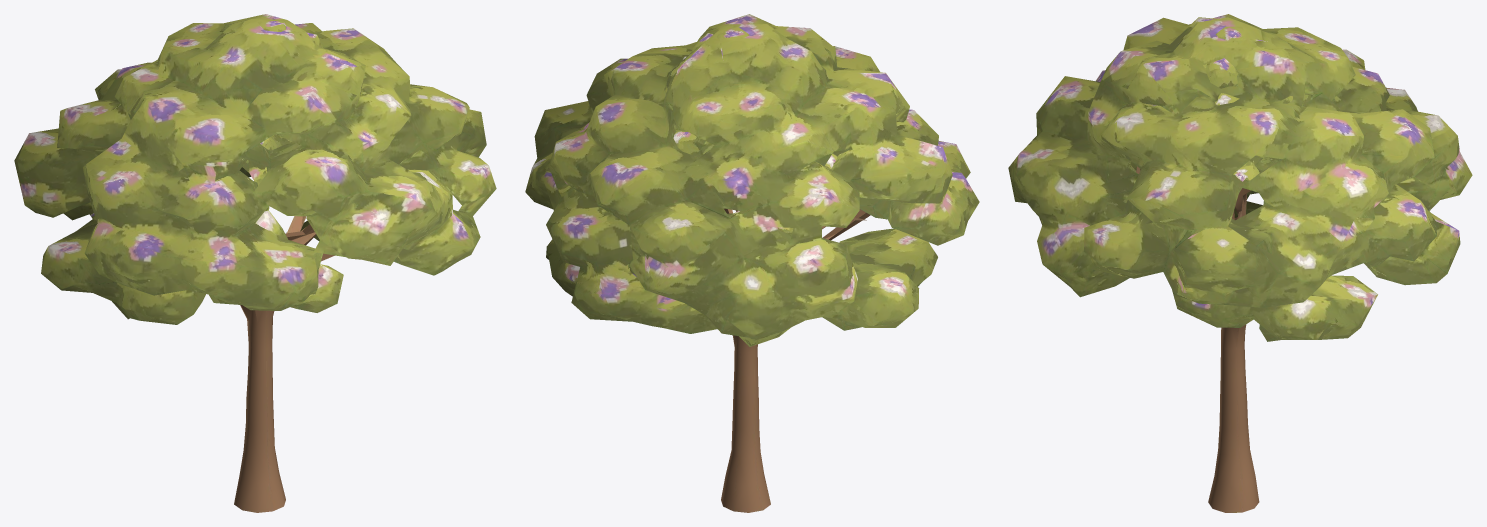
The model's file is tree_round_a.glb.
3 renders of one model, left to right at view 1: azimuth 30°, elevation 25°; view 2: azimuth 150°, elevation 25°; view 3: azimuth 270°, elevation 25°, orthographic. The views are drawn at different scales.
Parts seen in each view (by area): view 1: body; view 2: body; view 3: body.
Boxes of the visible parts, x1=… form: body: x1=14, y1=14, x2=496, y2=512; body: x1=525, y1=14, x2=979, y2=512; body: x1=1008, y1=14, x2=1472, y2=512.
Size of the model in its own units: 4.9 by 5.46 by 4.81.
Materials: 2 (2 with a texture image).
